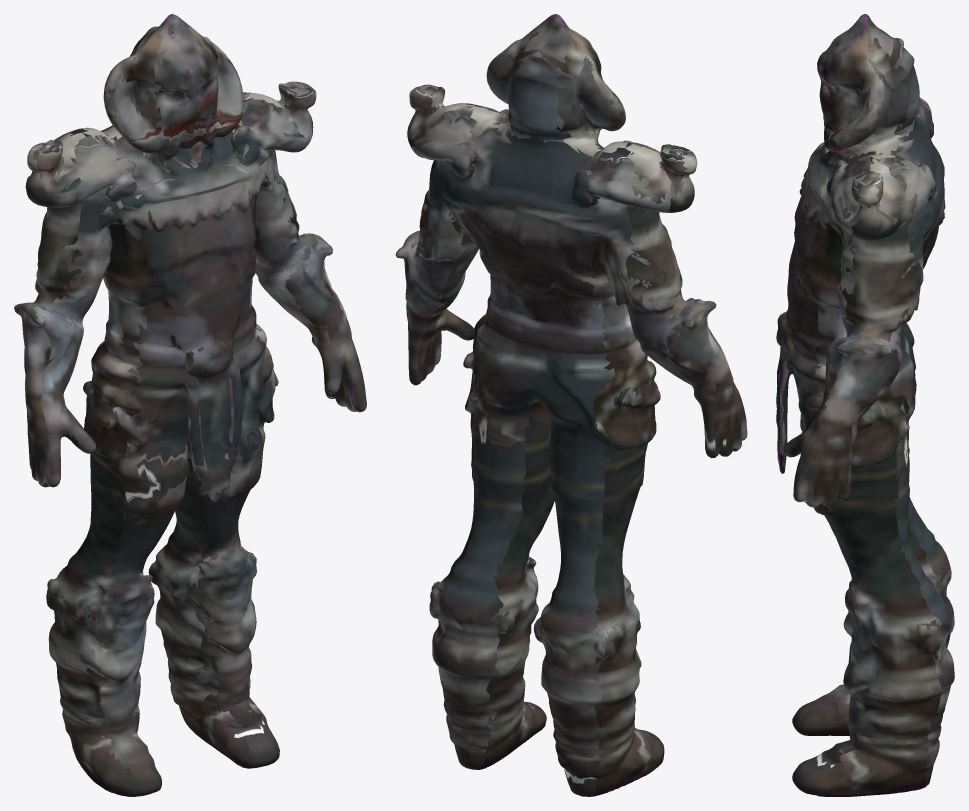
File: yandir-the-butcher-static-v1.glb
The picture shows the model from 3 angles, left to right: view 1: azimuth 30°, elevation 25°; view 2: azimuth 150°, elevation 25°; view 3: azimuth 270°, elevation 25°; orthographic projection.
Visible parts, largest first — view 1: geometry_0; view 2: geometry_0; view 3: geometry_0.
Part boxes in pixels (<box>): geometry_0: <box>14,14,366,796</box>; geometry_0: <box>395,14,747,796</box>; geometry_0: <box>776,14,954,796</box>.
Size of the model in its own units: 0.9045 by 1.99 by 0.4352.
Materials: 1 (1 with a texture image).
